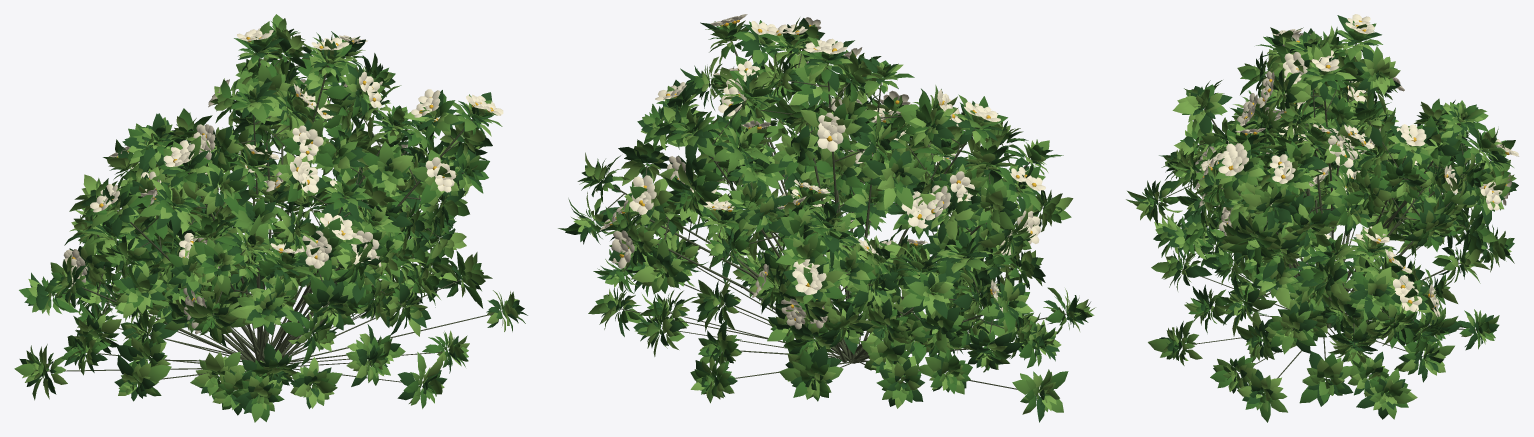
Rendered from shrub-08-giant-cream.glb.
3 views of the same model, side by side, from view 1: azimuth 30°, elevation 25°; view 2: azimuth 150°, elevation 25°; view 3: azimuth 270°, elevation 25° (orthographic). The views are drawn at different scales.
Parts seen in each view (by area): view 1: foliage-3, foliage-1, foliage-2, foliage-4, flowers, branches; view 2: foliage-1, foliage-3, foliage-2, foliage-4, flowers, branches, flower-centers; view 3: foliage-3, foliage-2, foliage-1, foliage-4, flowers, branches, flower-centers.
Boxes of the visible parts, <box> form: foliage-3: <box>14,14,517,422</box>; foliage-1: <box>19,28,527,415</box>; foliage-2: <box>19,21,525,421</box>; foliage-4: <box>22,27,518,409</box>; flowers: <box>62,28,503,334</box>; branches: <box>46,55,501,382</box>; foliage-1: <box>565,18,1090,422</box>; foliage-3: <box>571,21,1094,412</box>; foliage-2: <box>558,20,1088,409</box>; foliage-4: <box>573,18,1095,414</box>; flowers: <box>600,14,1045,329</box>; branches: <box>593,41,1066,389</box>; flower-centers: <box>609,20,1036,320</box>; foliage-3: <box>1126,24,1516,419</box>; foliage-2: <box>1142,20,1515,422</box>; foliage-1: <box>1132,15,1518,419</box>; foliage-4: <box>1133,26,1514,410</box>; flowers: <box>1194,14,1519,317</box>; branches: <box>1158,42,1490,393</box>; flower-centers: <box>1202,20,1509,309</box>.
Bounding box in the file's own units: 2.67 × 1.8 × 2.01.
